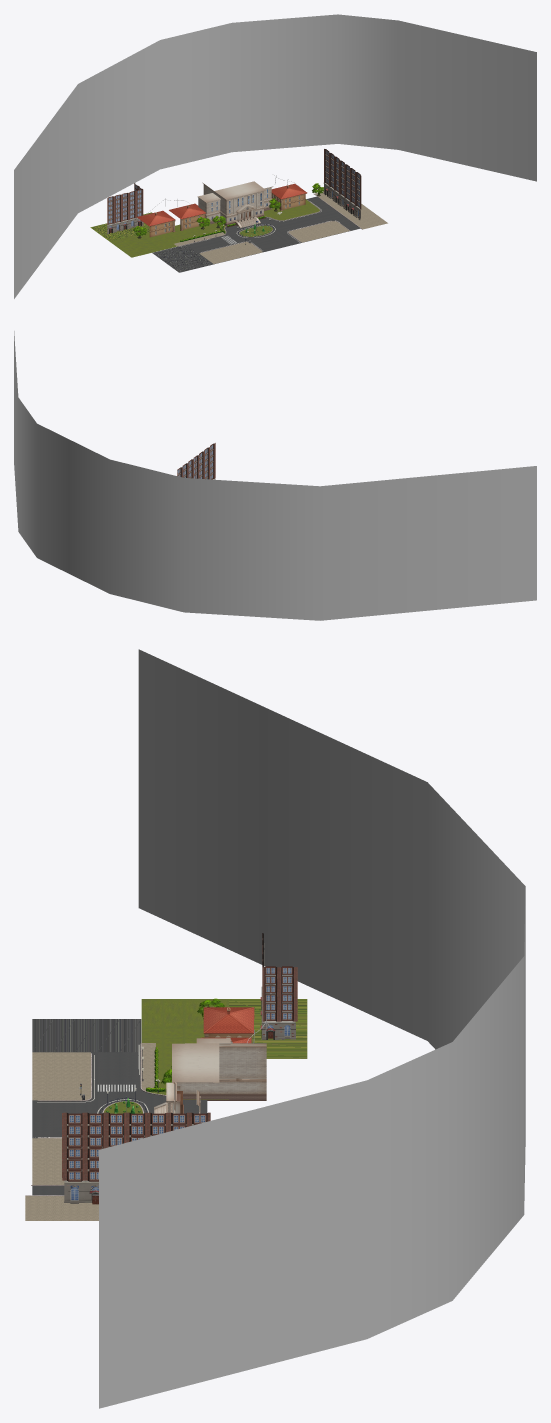
Rendered from FaYuanWai_01.FBX.
The picture shows the model from 3 angles, top to bottom: view 1: azimuth 30°, elevation 25°; view 2: azimuth 150°, elevation 25°; view 3: azimuth 270°, elevation 25°; orthographic projection. The views are drawn at different scales.
Parts seen in each view (by area): view 1: tiankong, 3, 2, Object004, 4, Object001, 007, Object002, 6, 5; view 2: tiankong, Object001, Object002; view 3: tiankong, 3, 2, Object002, Object005, Object001, 007, 6.
Part boxes in pixels (<box>): tiankong: <box>14,14,536,298</box>; 3: <box>90,191,387,272</box>; 2: <box>197,181,274,244</box>; Object004: <box>107,189,143,234</box>; 4: <box>169,183,307,230</box>; Object001: <box>323,149,350,212</box>; 007: <box>137,210,175,237</box>; Object002: <box>349,168,361,219</box>; 6: <box>179,201,339,252</box>; 5: <box>196,183,324,232</box>; tiankong: <box>14,331,536,620</box>; Object001: <box>177,451,204,478</box>; Object002: <box>204,443,215,479</box>; tiankong: <box>99,649,525,1408</box>; 3: <box>25,999,307,1220</box>; 2: <box>79,1038,266,1113</box>; Object002: <box>62,1112,106,1204</box>; Object005: <box>261,966,297,1039</box>; Object001: <box>106,1112,210,1147</box>; 007: <box>203,1007,254,1043</box>; 6: <box>35,1044,166,1137</box>.
Bounding box in the file's own units: 232877 × 56154 × 98289.
